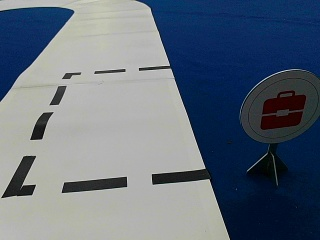company: (240, 71, 317, 139)
